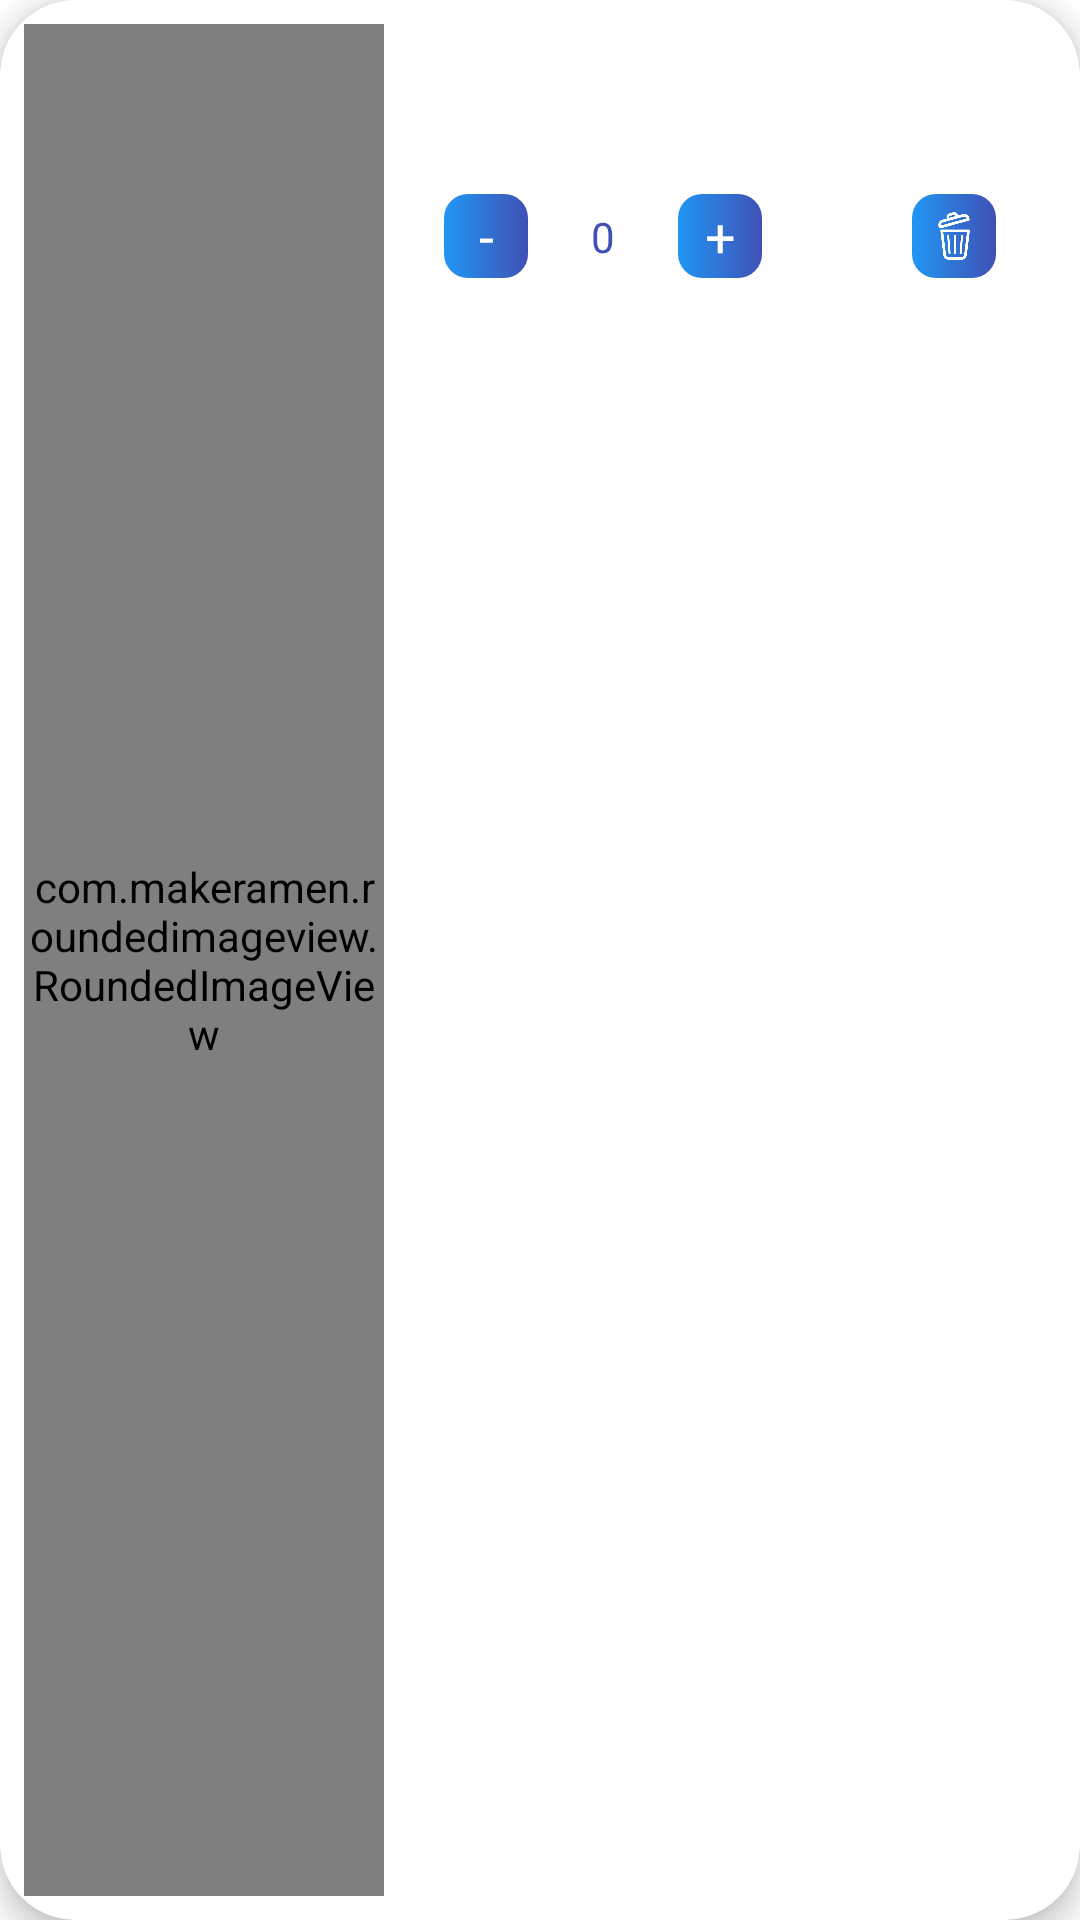

Icons on this 1080 × 1920 Android screen, each with the point to tap as [x,y]:
delete: [954,236]
